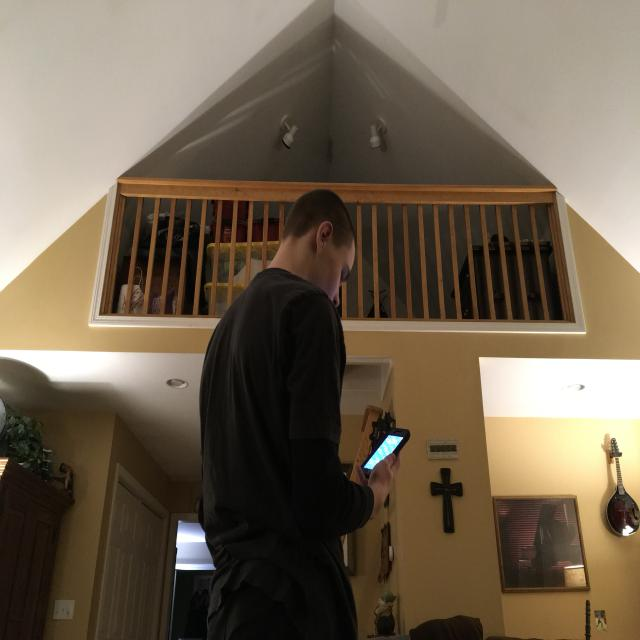pen: (359, 428, 411, 480)
